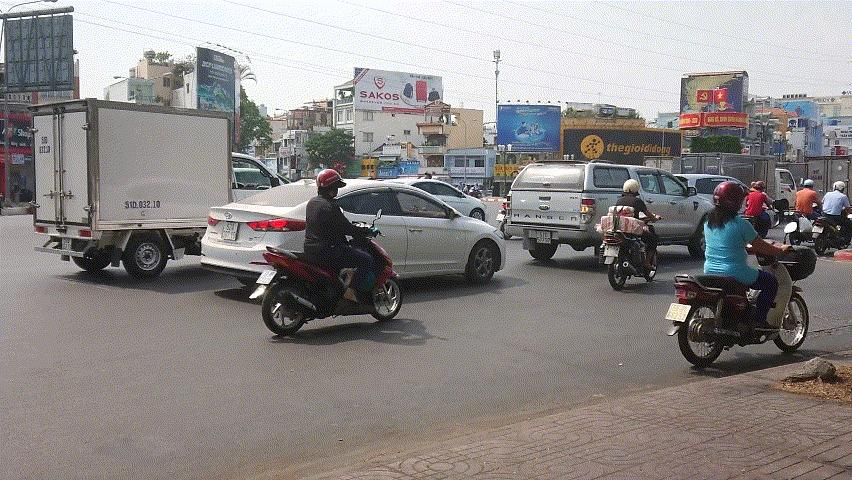driver: (664, 181, 812, 369), (247, 168, 405, 337), (600, 179, 665, 293), (812, 181, 852, 257), (783, 178, 821, 246)
helmet: (713, 181, 750, 215), (315, 168, 347, 201), (622, 179, 641, 197), (832, 181, 846, 193), (754, 181, 767, 193), (803, 179, 815, 190)
